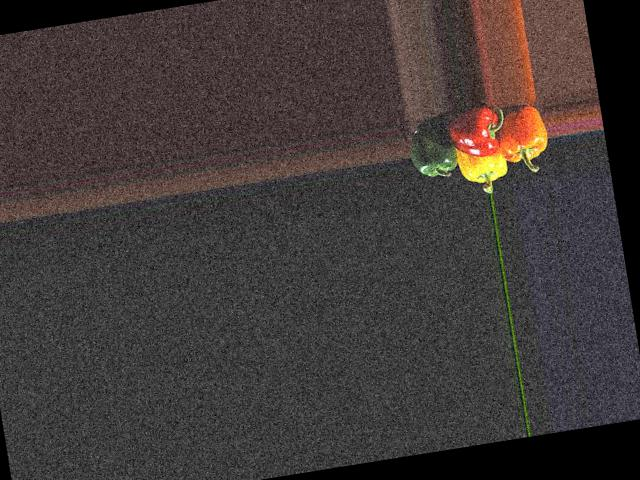bell_pepper: (491, 95, 552, 171)
